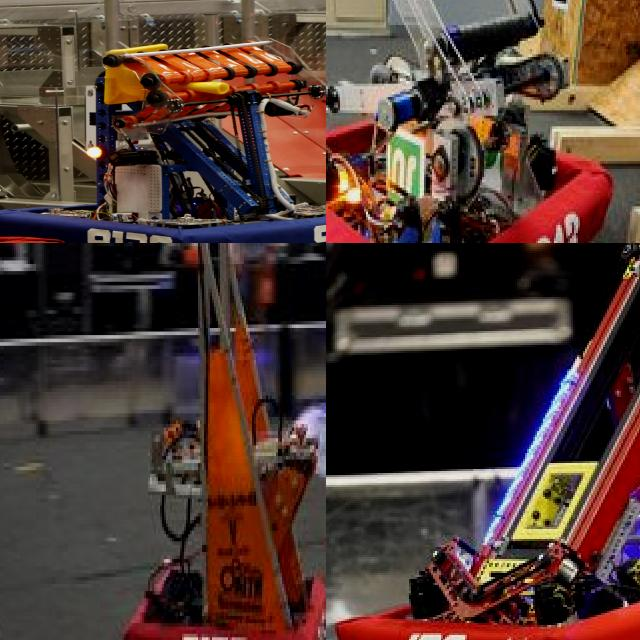FRC-Robots: (376, 243, 640, 640), (132, 243, 326, 640), (326, 0, 632, 243), (10, 10, 326, 243), (0, 207, 93, 243)
